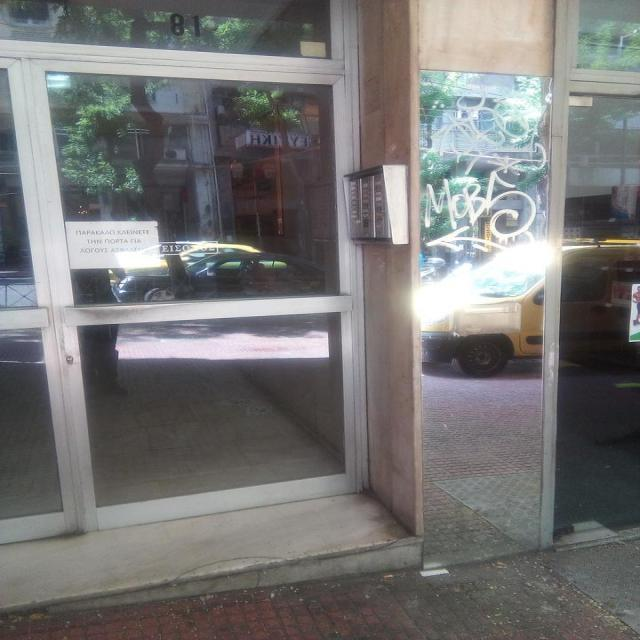nonspitting: (432, 93, 548, 176), (425, 172, 537, 252)
